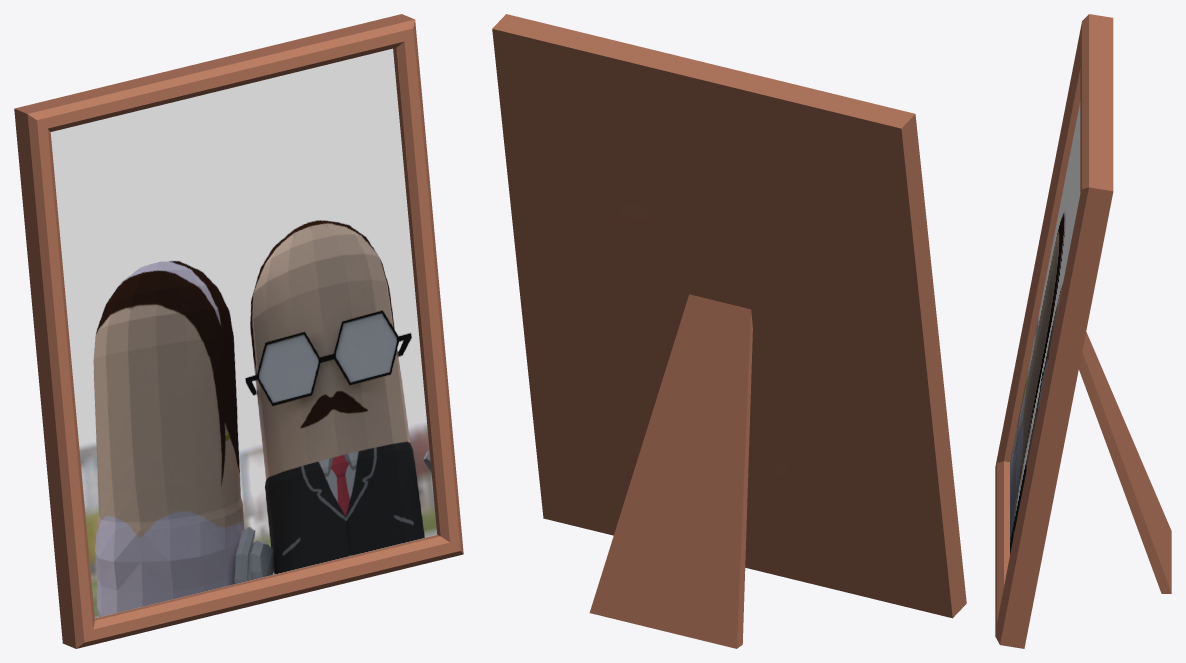
File: Item_B.fbx
3 renders of one model, left to right at view 1: azimuth 30°, elevation 25°; view 2: azimuth 150°, elevation 25°; view 3: azimuth 270°, elevation 25°, orthographic. The views are drawn at different scales.
Visible parts, largest first — view 1: Cube; view 2: Cube; view 3: Cube.
Boxes of the visible parts, x1,y1,x2,y2 form: Cube: [14, 14, 463, 648]; Cube: [492, 14, 966, 648]; Cube: [995, 14, 1171, 648].
Size of the model in its own units: 400 by 497 by 172.
1 material, 1 textured.
